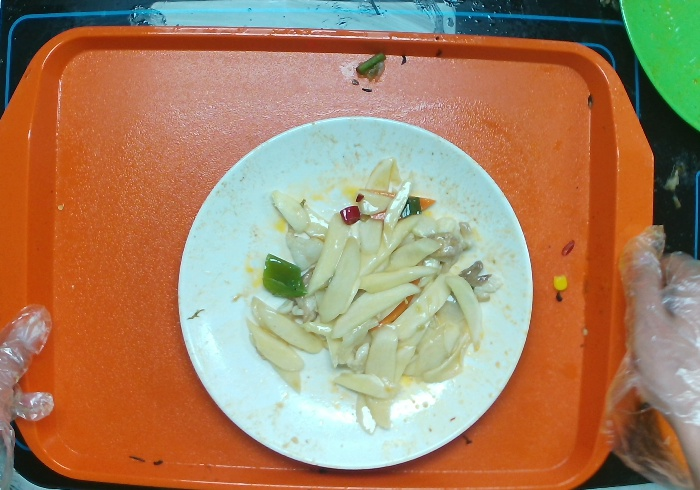HZYJPL-Bai_Se_Yuan_Pan: (169, 112, 536, 477)
